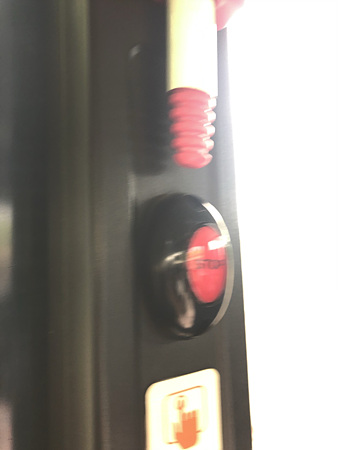bell: (138, 194, 232, 338)
